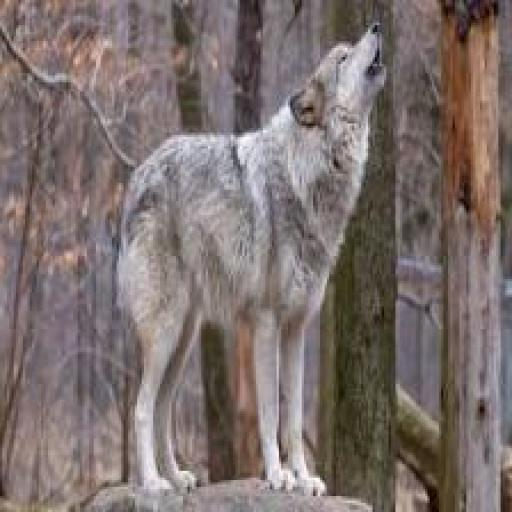wolf: (98, 0, 408, 512)
